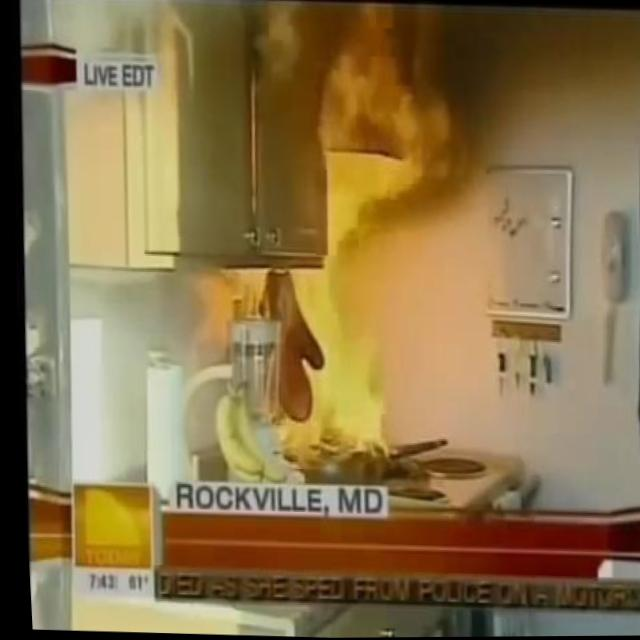fire: (226, 2, 458, 472)
